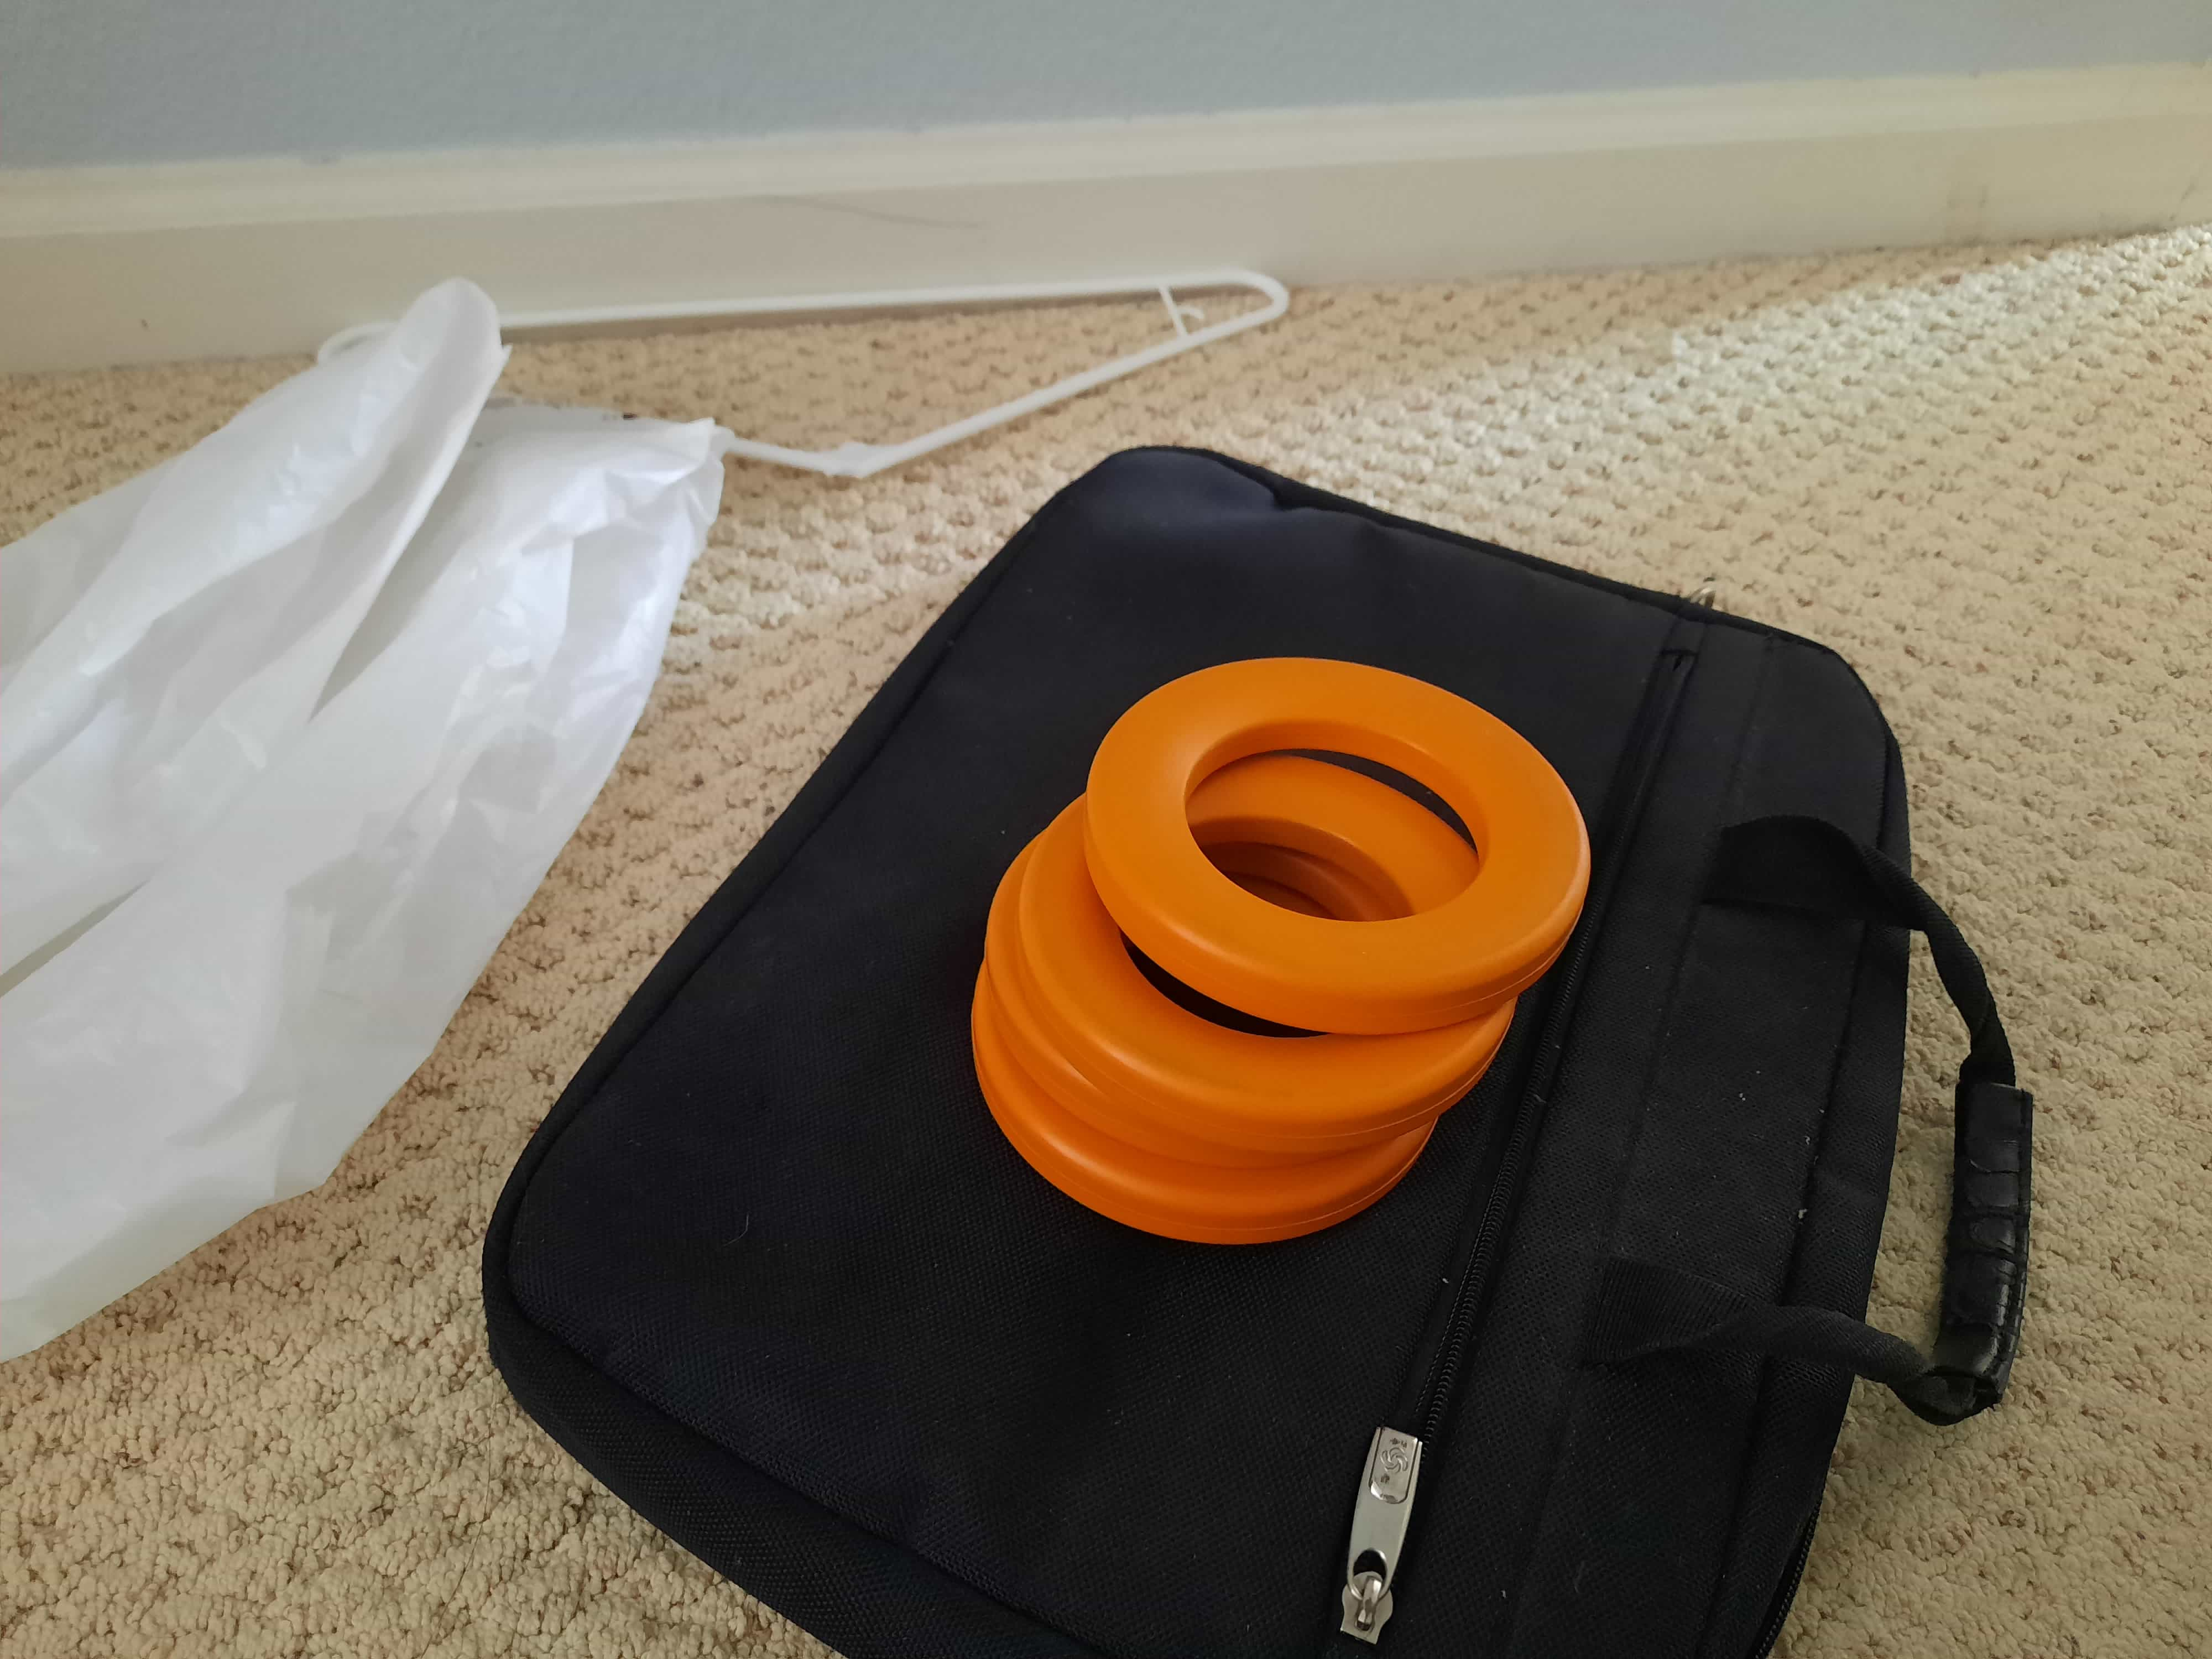FourStack: (984, 660, 1597, 1241)
